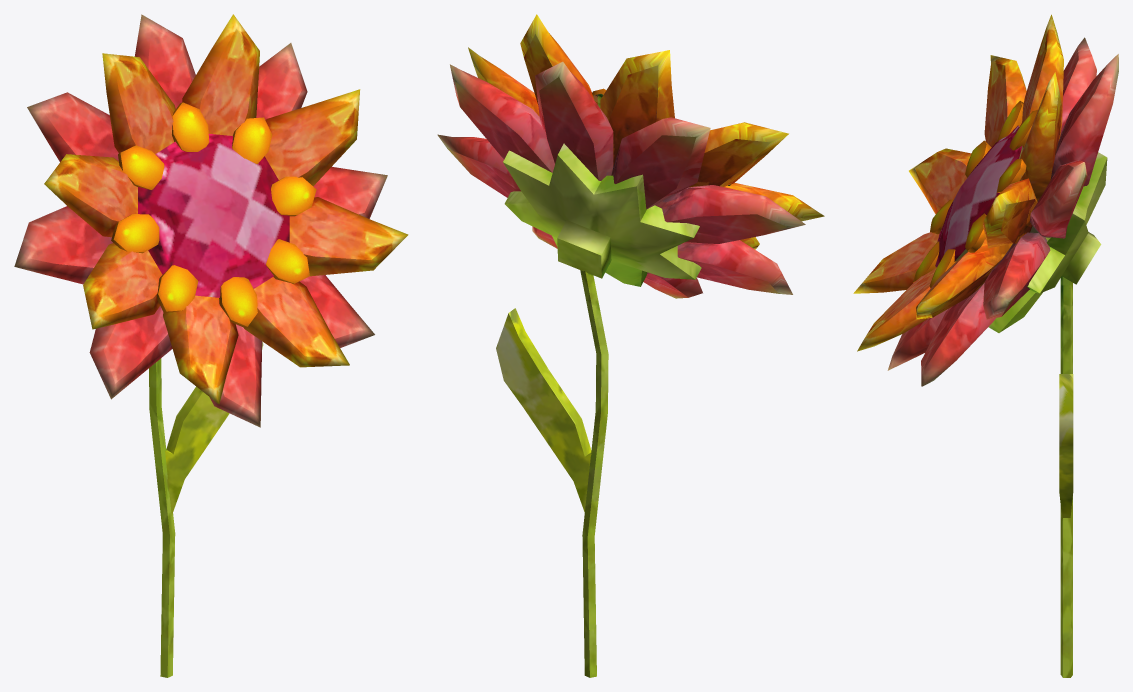
The model's file is botany_100001_02.FBX.
3 views of the same model, side by side, from view 1: azimuth 30°, elevation 25°; view 2: azimuth 150°, elevation 25°; view 3: azimuth 270°, elevation 25° (orthographic). The views are drawn at different scales.
Visible parts, largest first — view 1: botany_100001_02; view 2: botany_100001_02; view 3: botany_100001_02.
Part boxes in pixels (<box>): botany_100001_02: <box>14,14,408,677</box>; botany_100001_02: <box>437,14,824,677</box>; botany_100001_02: <box>853,14,1118,677</box>.
Size of the model in its own units: 53.67 by 89.29 by 34.
Materials: 1 (1 with a texture image).
